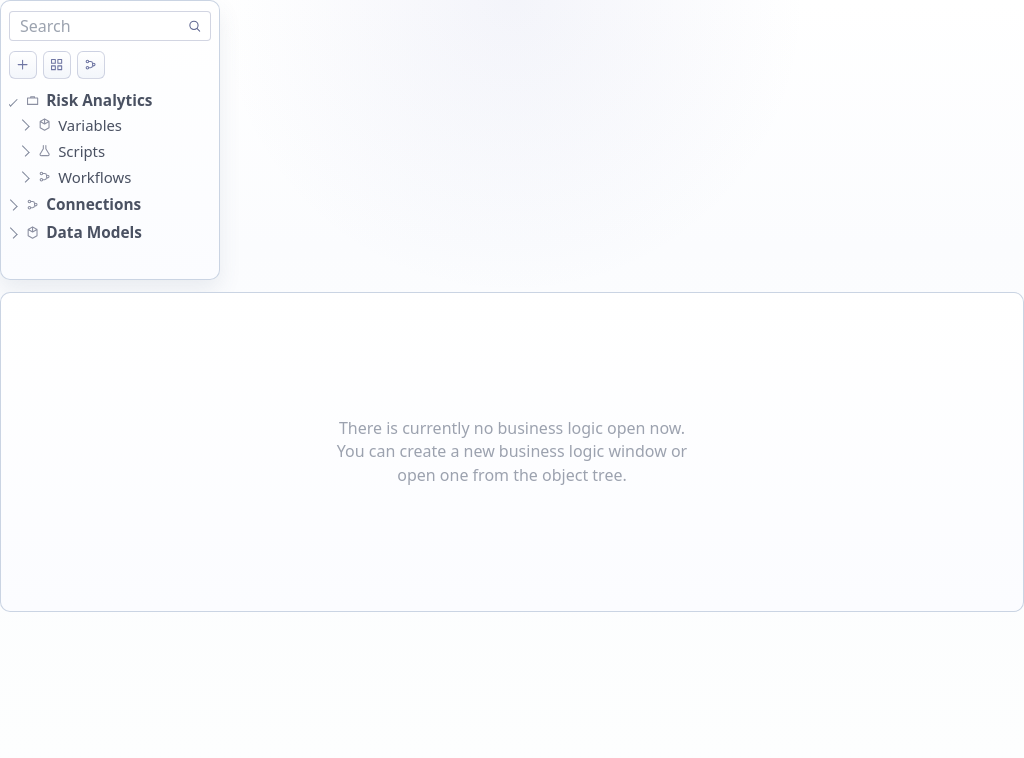
Scenario: CreditModelerWorkbench connections › opens the blank builder from top-level Connections and refreshes the submenu after save
Click the button "Connections". click: click(108, 205)
box: x1=21 y1=193 x2=194 y2=217
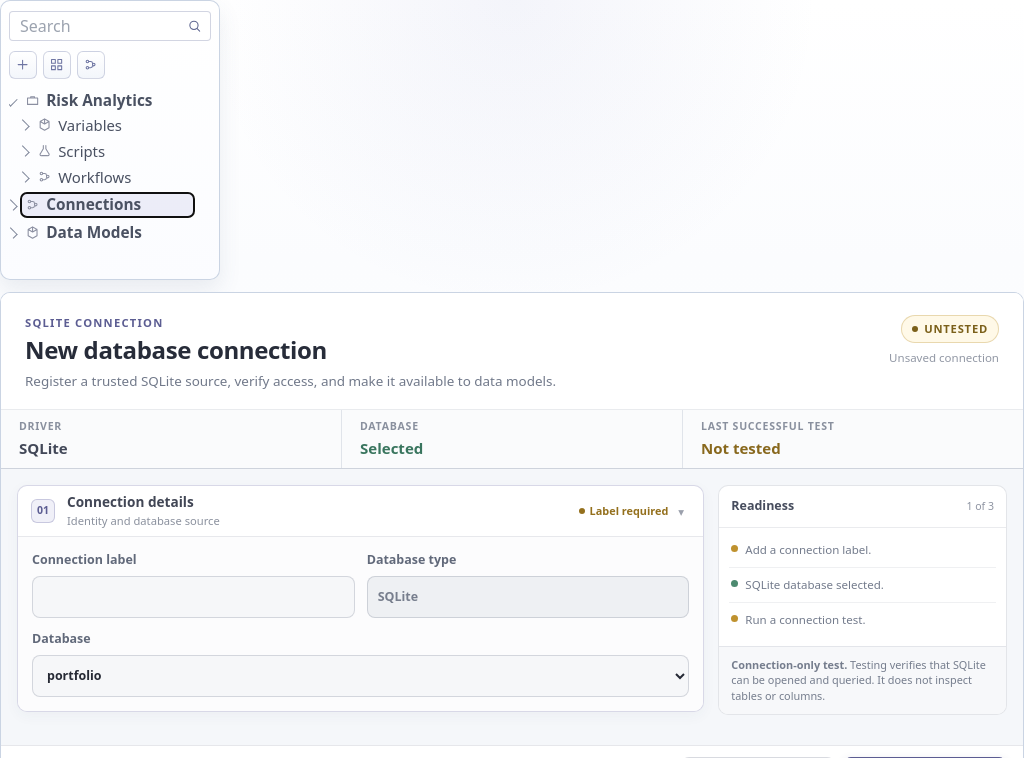
Expected: the heading "New database connection" is shown, x1=25 y1=336 x2=327 y2=364
Type "Portfolio" into the field labelled "Connection label". click: (193, 597)
box: x1=32 y1=576 x2=355 y2=618
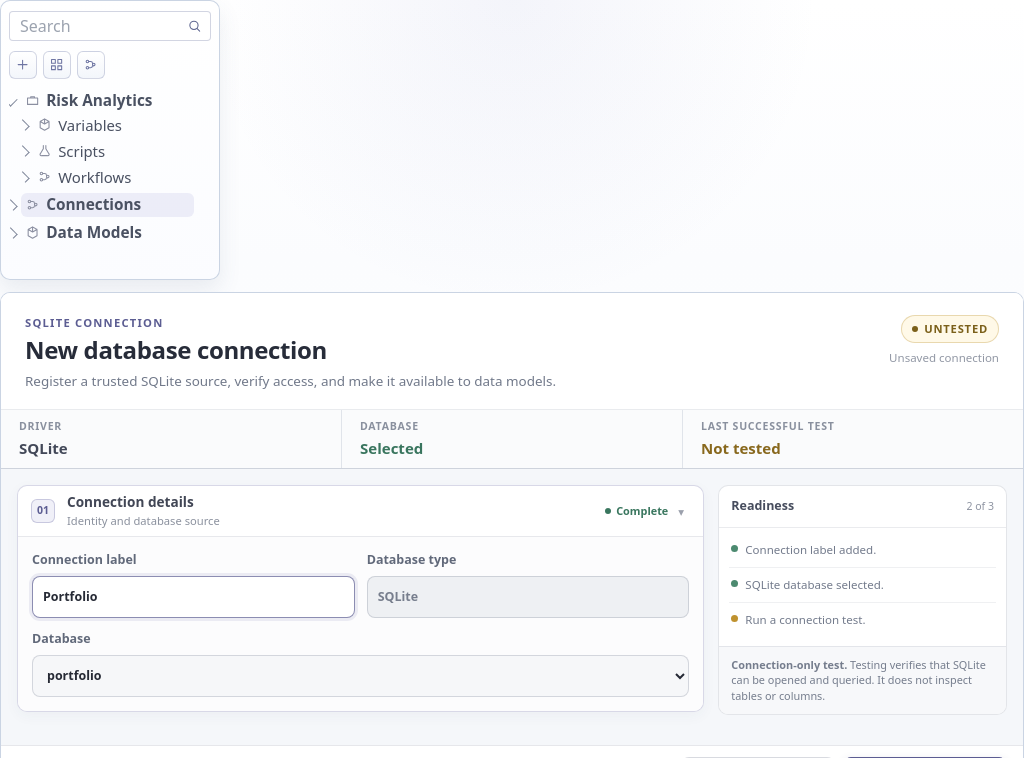
Select "portfolio" in the dropdown labelled "Database". click: (361, 676)
box: x1=32 y1=655 x2=689 y2=697
(page scrolled)
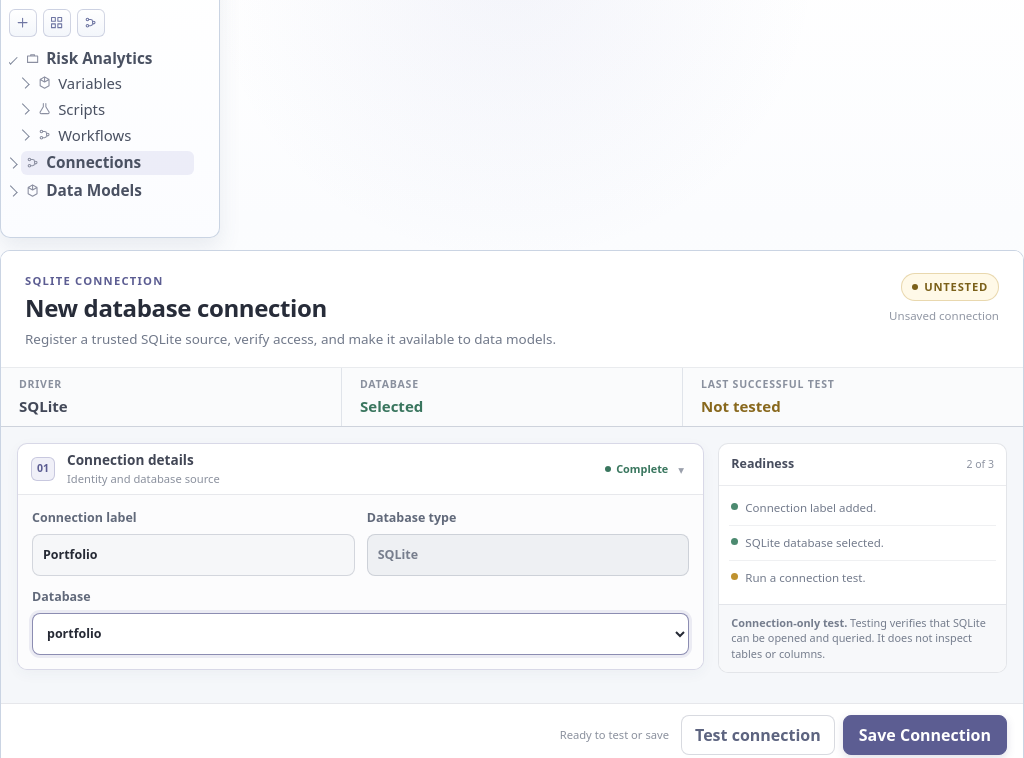
Click the button "Save Connection". click: click(925, 735)
box: x1=843 y1=715 x2=1007 y2=755
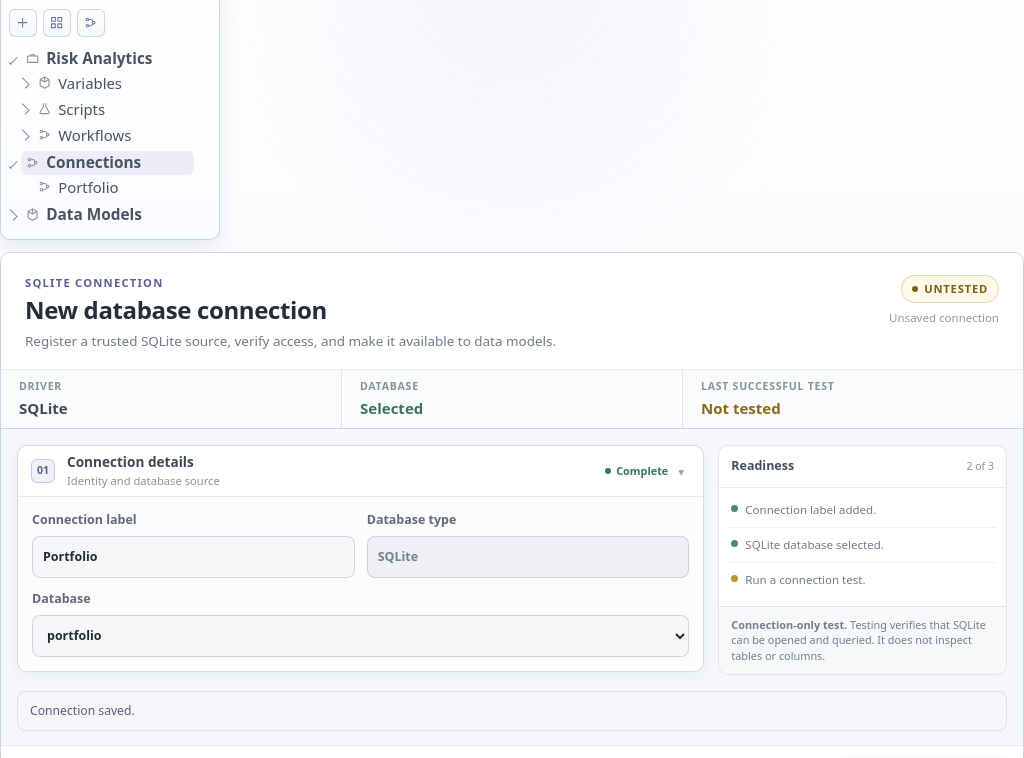
Expected: the text "Connection saved." is shown, x1=17 y1=691 x2=1007 y2=731
Expected: the button "Portfolio" is shown, x1=33 y1=175 x2=194 y2=199
